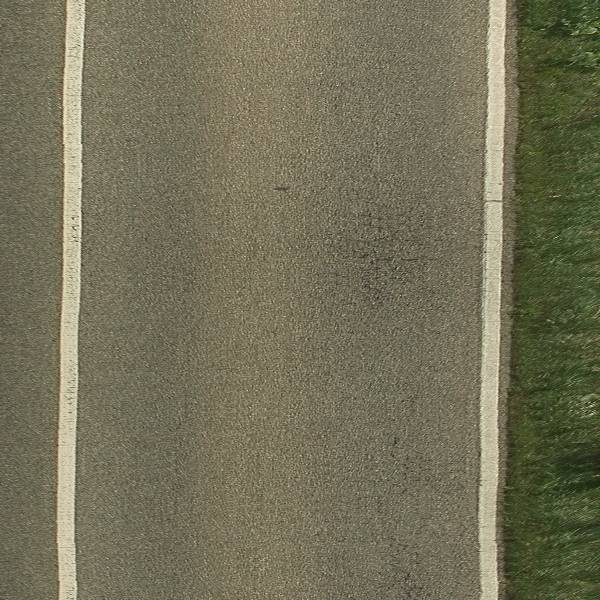road_damage: (330, 200, 433, 321)
